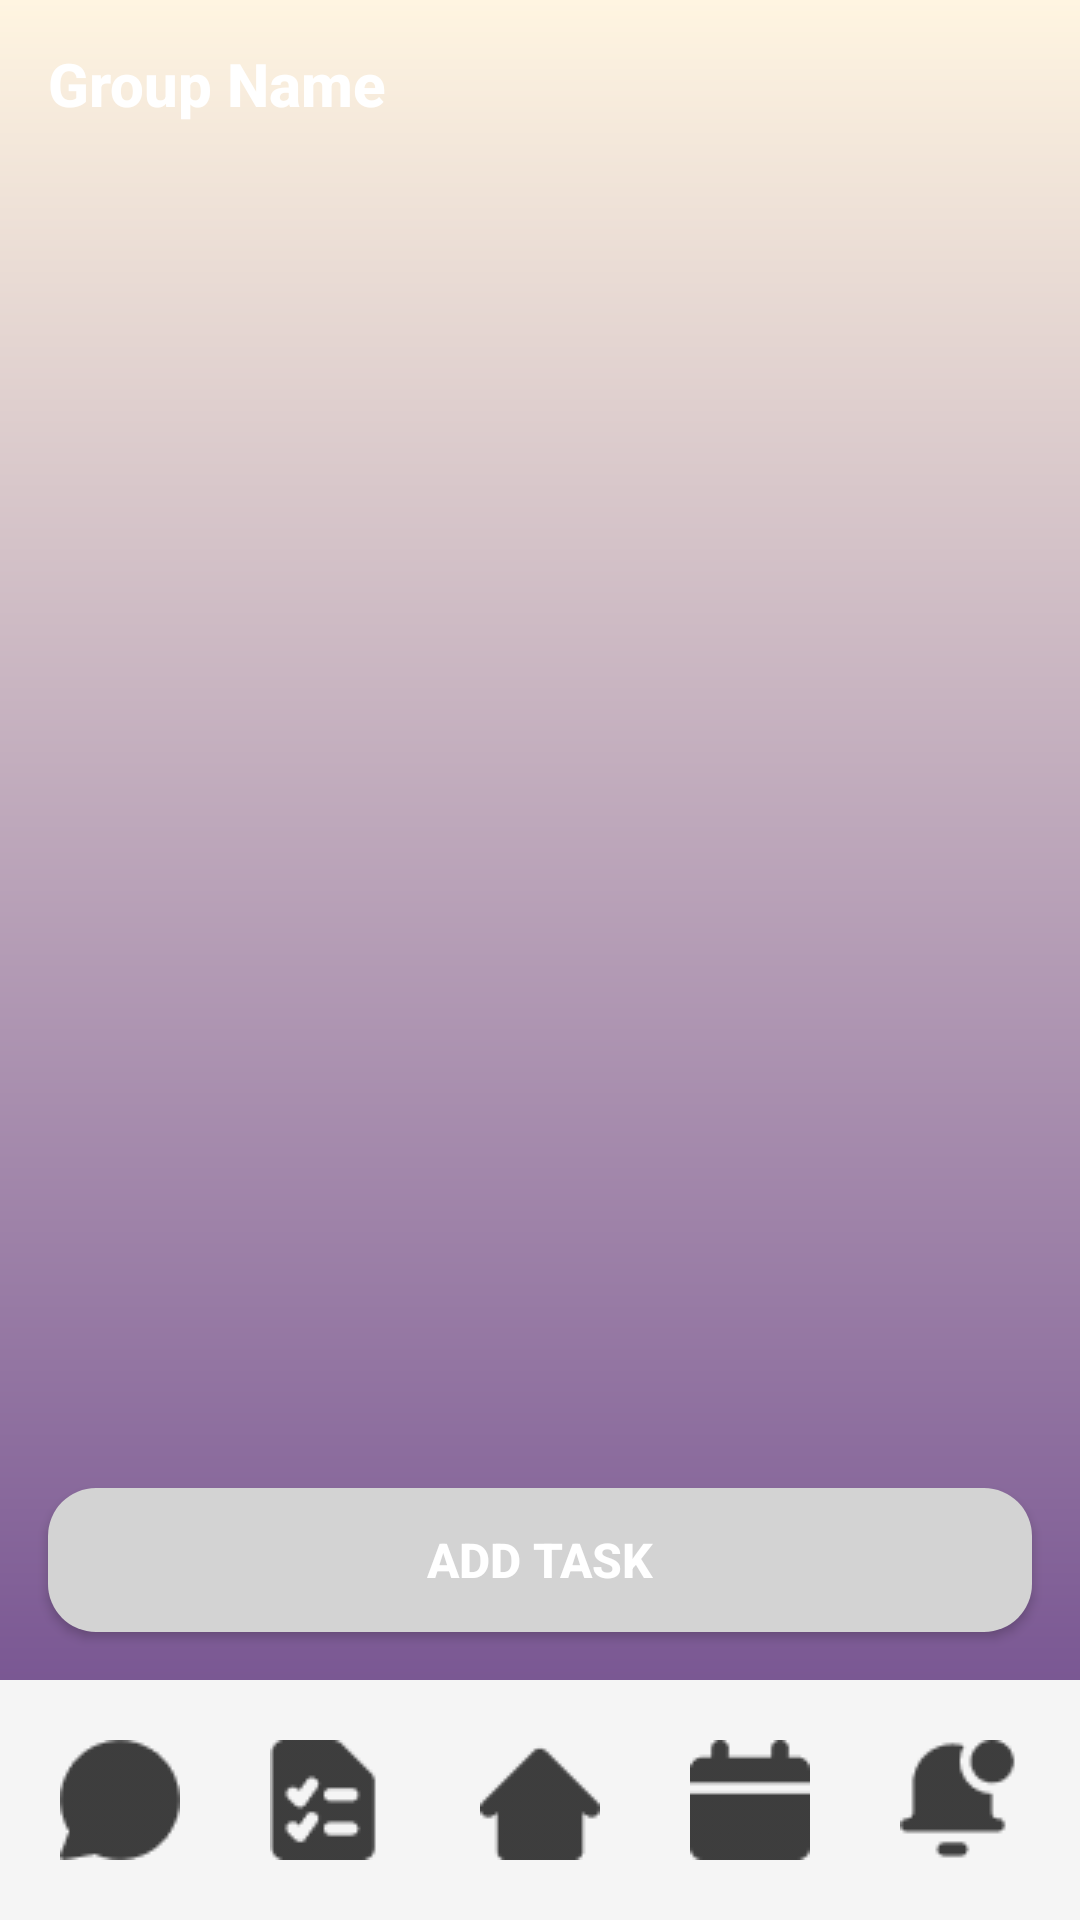

Named icons in this screenshot (1080w x 1920h) and their centers, (x,y):
chat: (120,1800)
home: (540,1804)
notifications: (957,1799)
